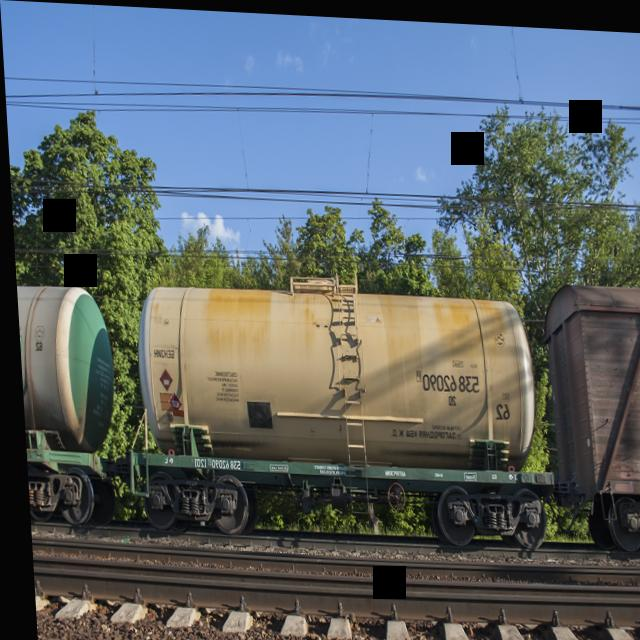boxcar: (535, 250, 640, 568)
tank: (115, 232, 548, 551), (12, 252, 123, 545)
